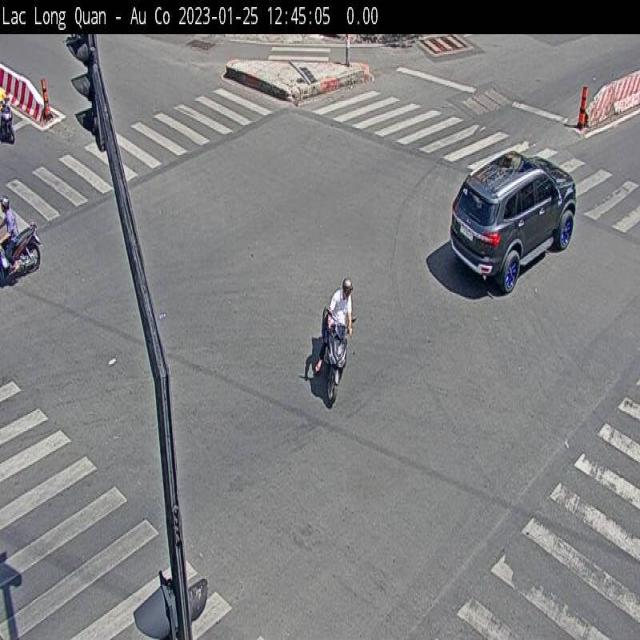helmet: (341, 270, 354, 297)
